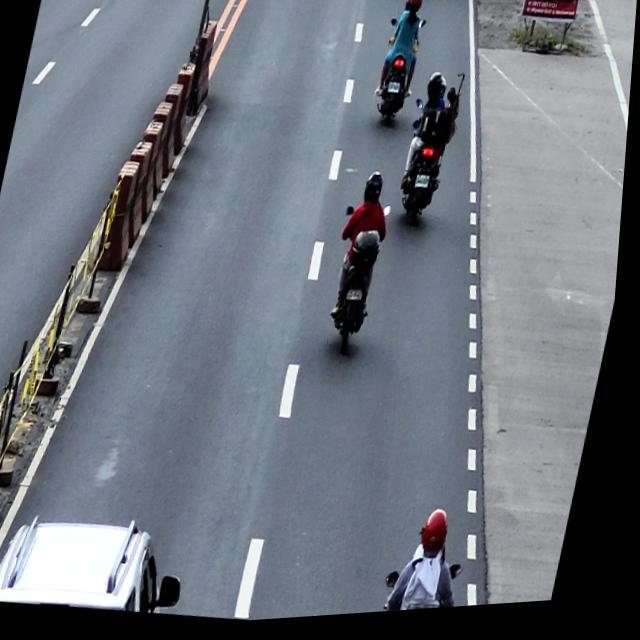Car: (0, 503, 204, 629)
License-Plate: (350, 293, 369, 308), (417, 180, 433, 195), (389, 86, 403, 100)
Motorcycle: (321, 207, 395, 362), (393, 101, 462, 235), (371, 17, 429, 131), (387, 561, 474, 618)
